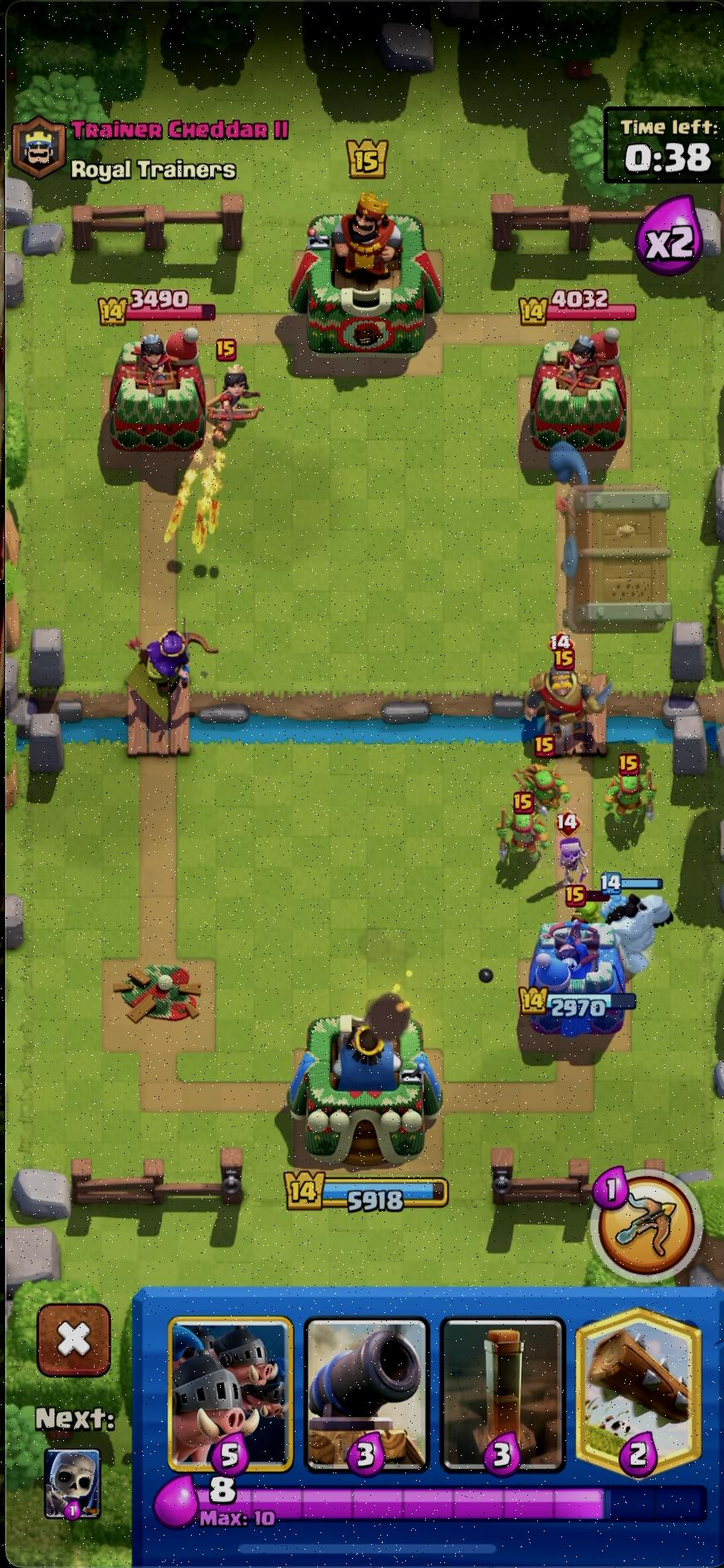card_cannon: (305, 1316, 429, 1474)
card_earthquake: (440, 1314, 565, 1471)
card_log: (573, 1303, 702, 1480)
card_royalhogs: (163, 1312, 294, 1473)
card_skeletons: (42, 1444, 107, 1531)
